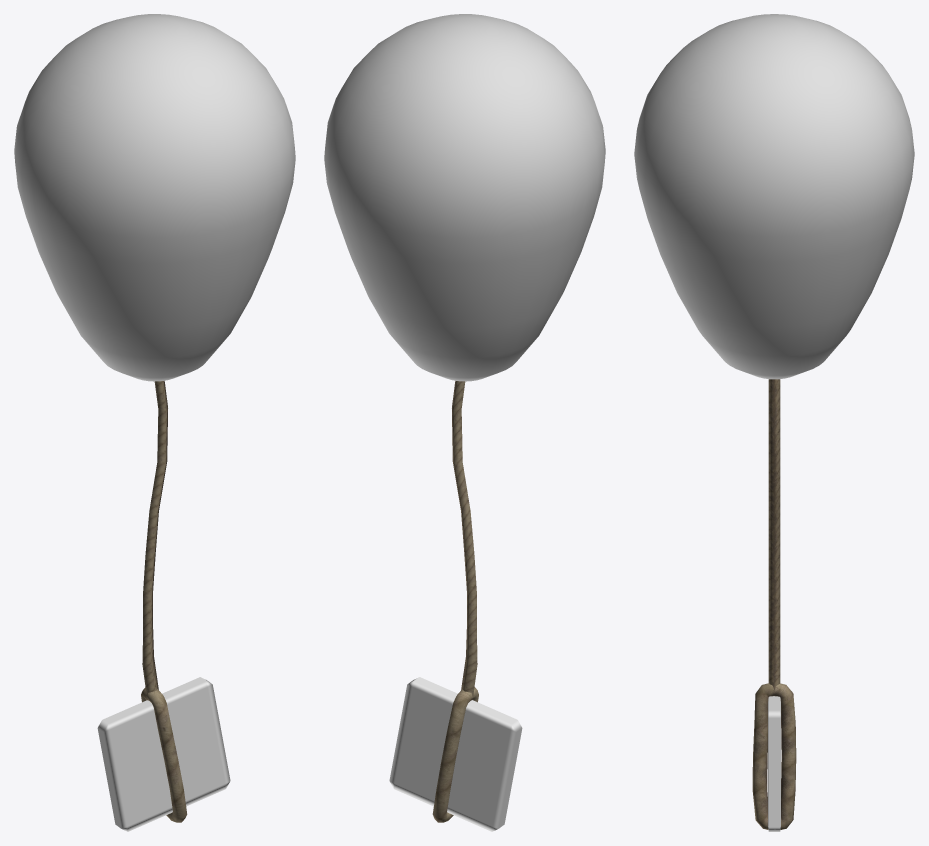
The model's file is balloon_04.gltf.
3 renders of one model, left to right at view 1: azimuth 30°, elevation 25°; view 2: azimuth 150°, elevation 25°; view 3: azimuth 270°, elevation 25°, orthographic.
Visible parts, largest first — view 1: balloon.004, package.004, Sphere.007, Cube.004_Curve; view 2: balloon.004, package.004, Sphere.007, Cube.004_Curve; view 3: balloon.004, Cube.004_Curve, Sphere.007, package.004.
Part boxes in pixels (x1,y1,x2,y2): balloon.004: (14, 14, 295, 381); package.004: (97, 677, 230, 831); Sphere.007: (142, 381, 167, 695); Cube.004_Curve: (141, 687, 187, 822); balloon.004: (324, 14, 605, 381); package.004: (389, 677, 522, 831); Sphere.007: (452, 381, 477, 695); Cube.004_Curve: (432, 687, 478, 822); balloon.004: (634, 14, 914, 379); Cube.004_Curve: (752, 683, 796, 829); Sphere.007: (768, 379, 780, 692); package.004: (768, 696, 780, 831).
Size of the model in its own units: 1.5 by 4.69 by 1.5.
Materials: 3 (1 with a texture image).
